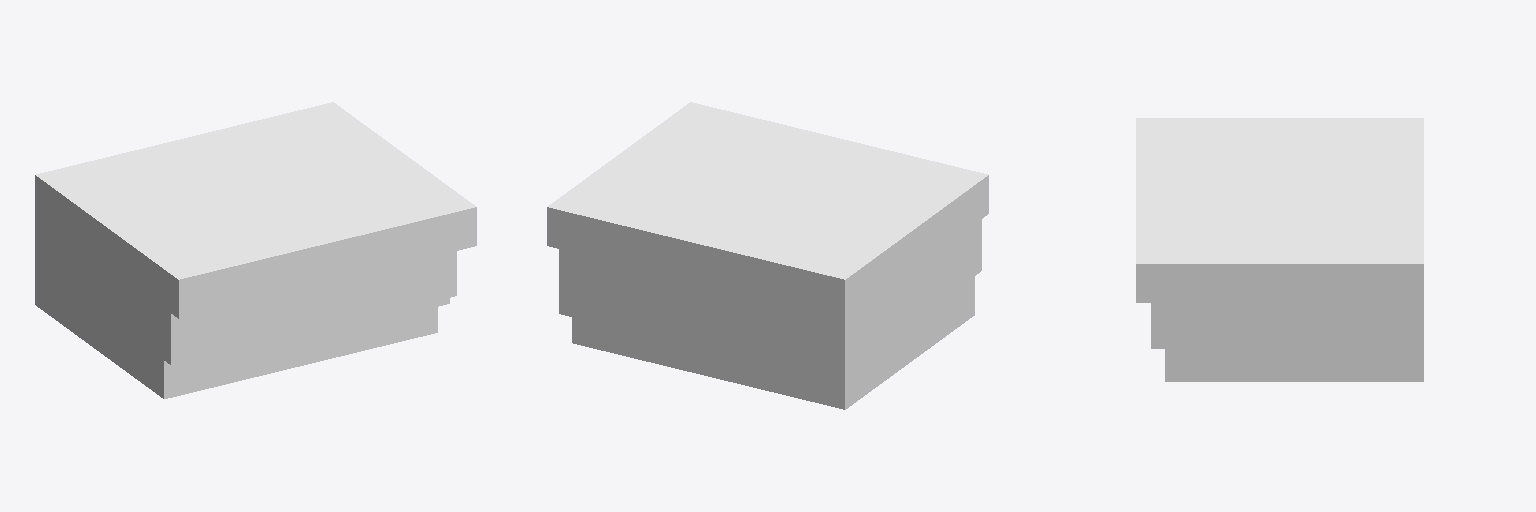
File: SmolPiece.obj
3 views of the same model, side by side, from view 1: azimuth 30°, elevation 25°; view 2: azimuth 150°, elevation 25°; view 3: azimuth 270°, elevation 25° (orthographic).
Parts seen in each view (by area): view 1: object 1; view 2: object 1; view 3: object 1.
Part boxes in pixels (bbox=[...]): object 1: bbox=[35, 102, 476, 398]; object 1: bbox=[547, 102, 988, 409]; object 1: bbox=[1136, 118, 1423, 381].
Bounding box in the file's own units: 2.4 × 1 × 2.